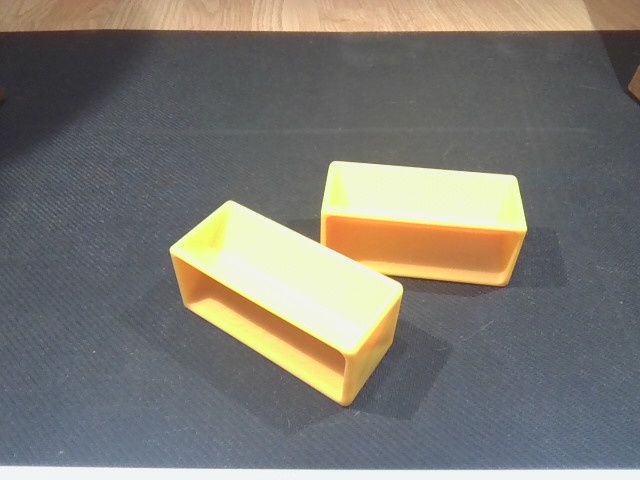YellowSample: (151, 192, 410, 414), (313, 155, 526, 299)
